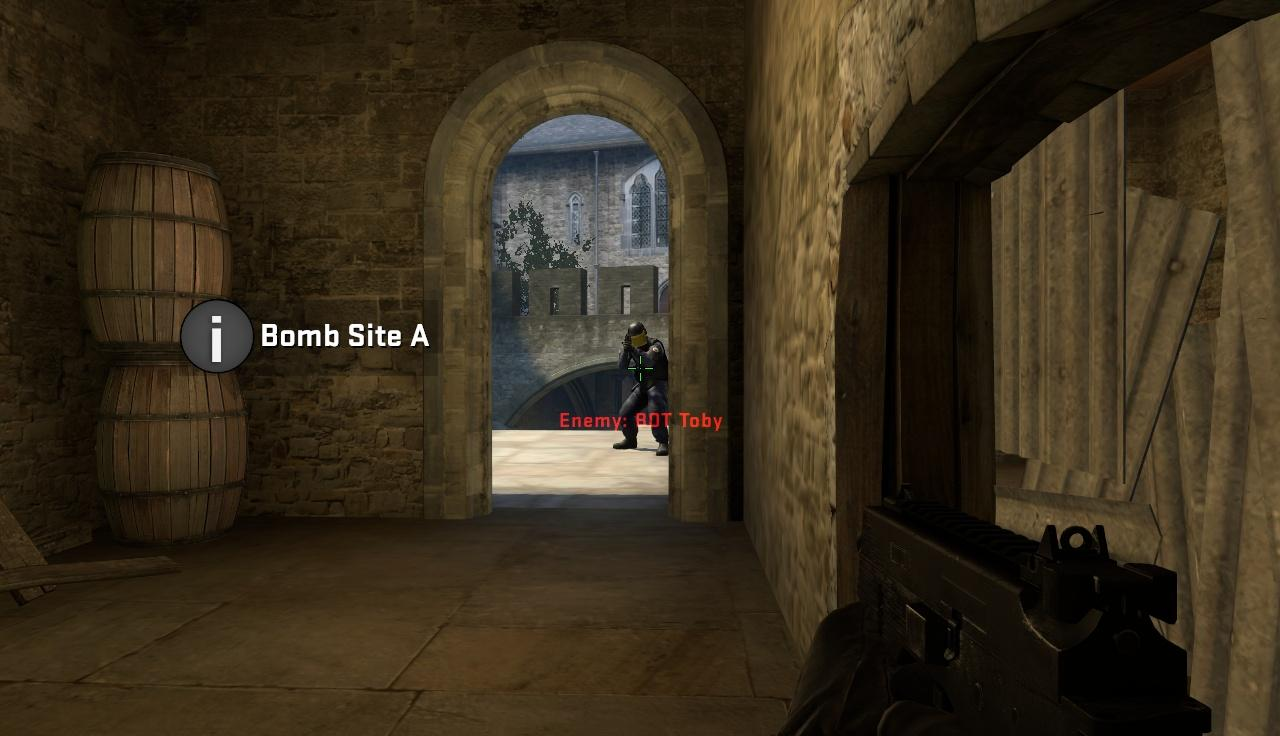ct: (621, 322, 669, 457)
cthead: (627, 322, 648, 349)
rifle: (856, 488, 1215, 736)
